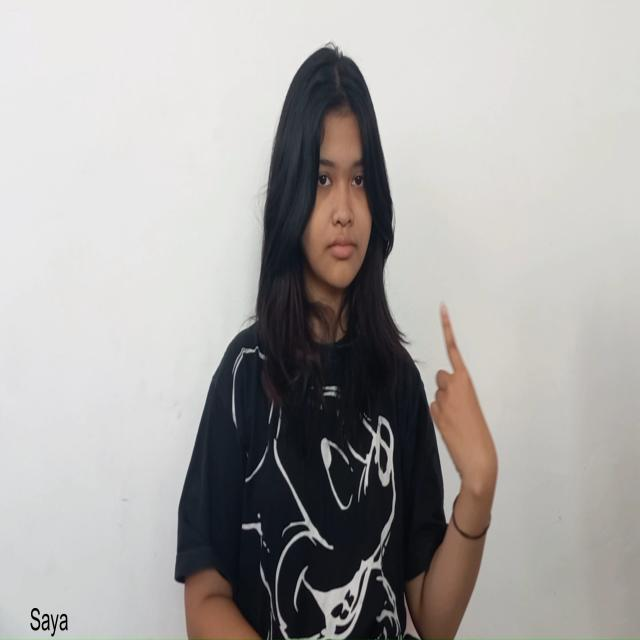Saya -BISINDO-: (428, 299, 500, 510)
